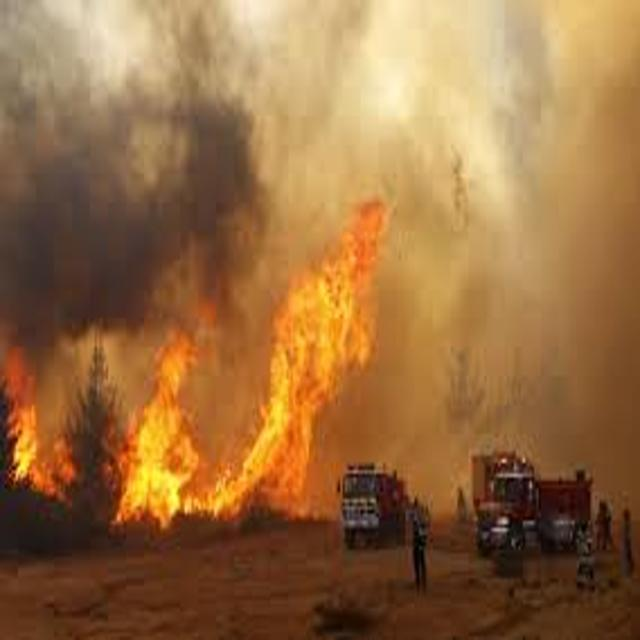Fire: (214, 194, 398, 517), (109, 318, 202, 530), (0, 326, 44, 506), (218, 0, 296, 62), (42, 432, 92, 510)
Smoke: (2, 2, 212, 320), (402, 0, 536, 471), (541, 2, 640, 466), (298, 0, 402, 191), (213, 65, 294, 191)
